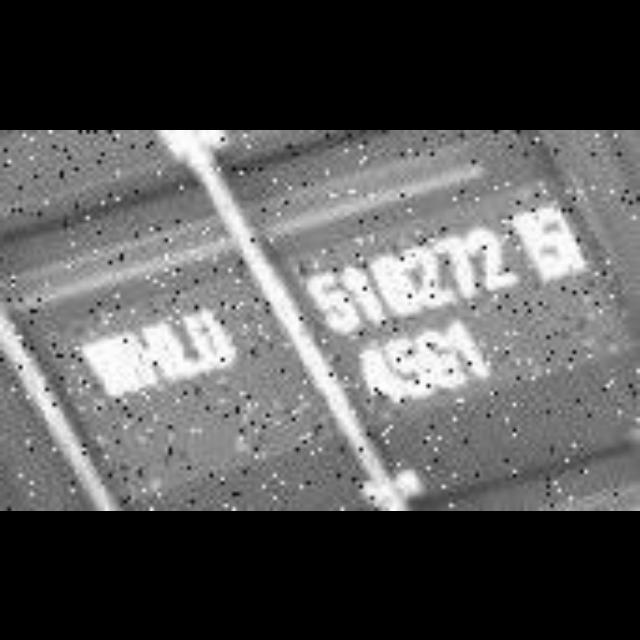1: (334, 258, 394, 332), (443, 312, 501, 383)
2: (459, 215, 527, 300), (396, 233, 466, 315)
4: (350, 341, 415, 416)
5: (299, 263, 370, 343), (380, 328, 444, 406), (519, 212, 585, 276)
6: (409, 319, 477, 399)
7: (428, 223, 492, 309)
8: (365, 245, 430, 324)
h: (111, 317, 190, 397)
l: (153, 313, 220, 385)
u: (177, 297, 247, 374)
w: (74, 328, 152, 411)
